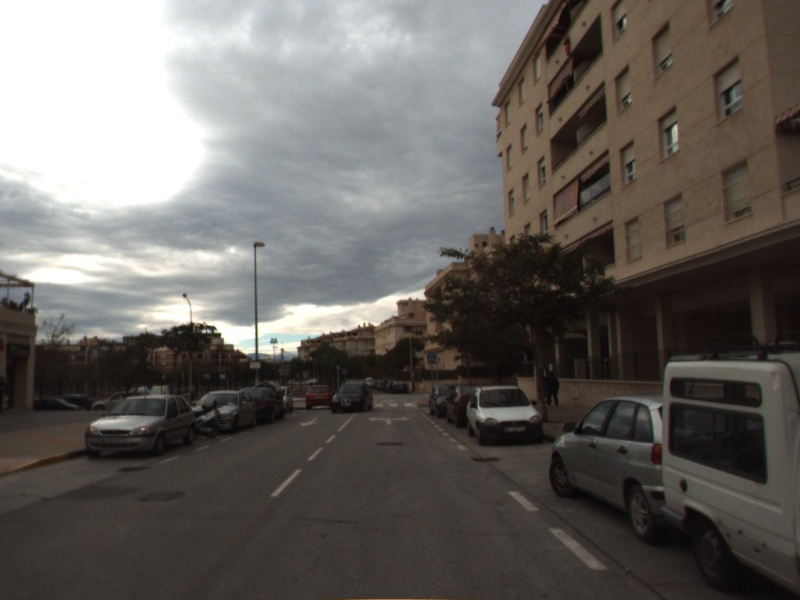LEFT_RIGHT: (366, 414, 411, 427)
